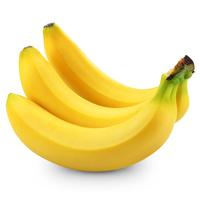banane: (4, 16, 197, 177)
